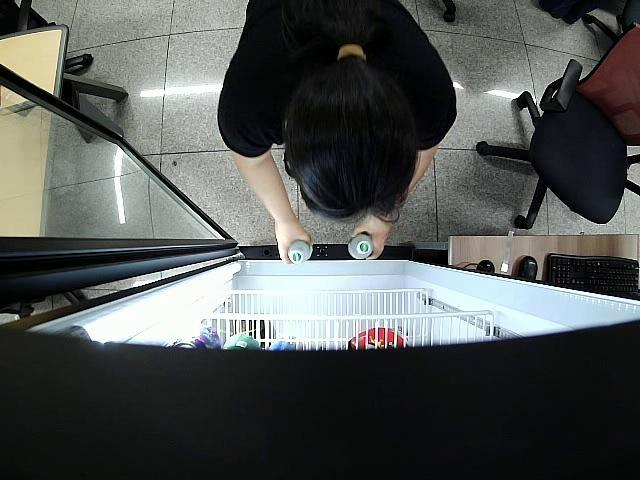18_trevi: (346, 232, 376, 262), (287, 237, 314, 264)
